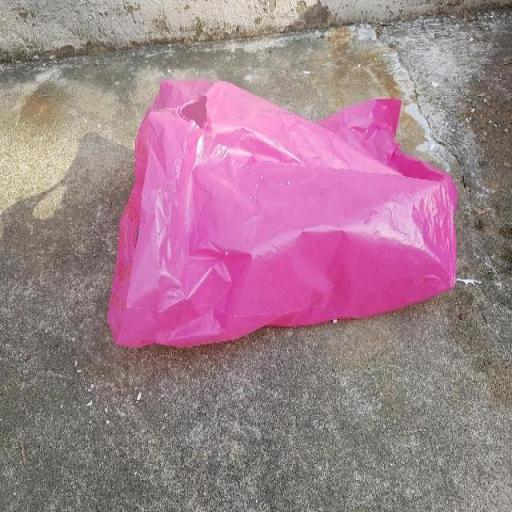plastic-bag: (105, 74, 461, 354)
